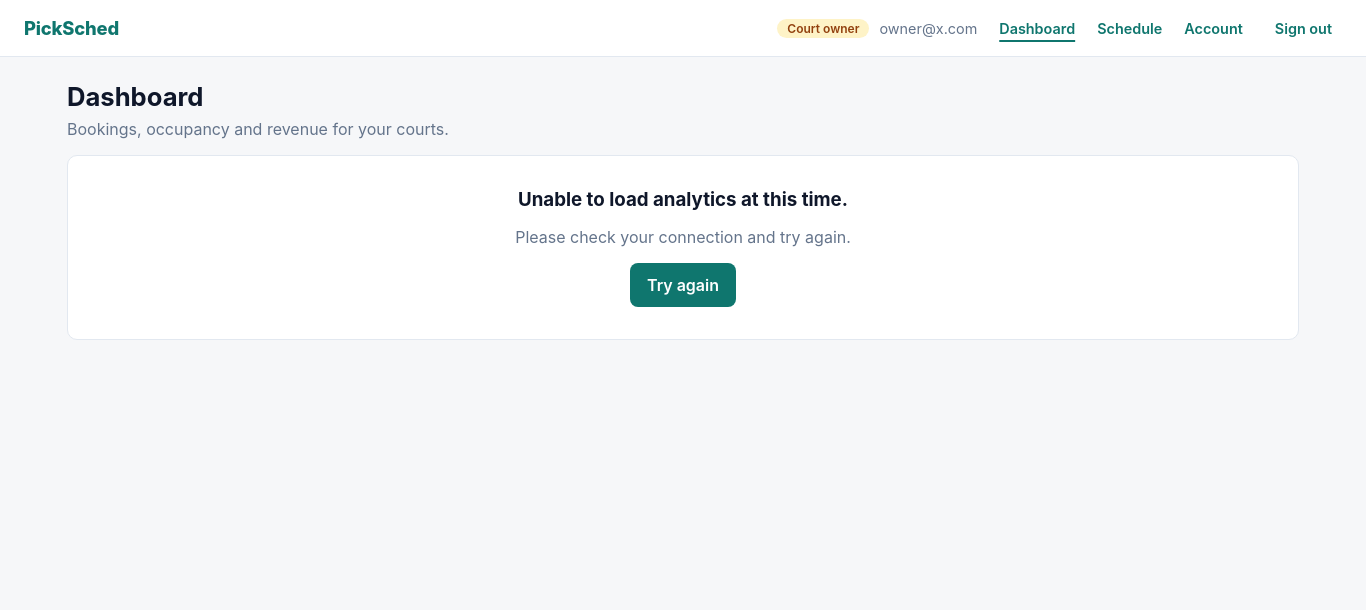
empty and error states › shows a friendly error and recovers on retry
Expected: the heading "Unable to load analytics at this time." is shown, left=518, top=188, right=848, bottom=211
Click the button "Try again": (683, 285) left=630, top=263, right=736, bottom=307
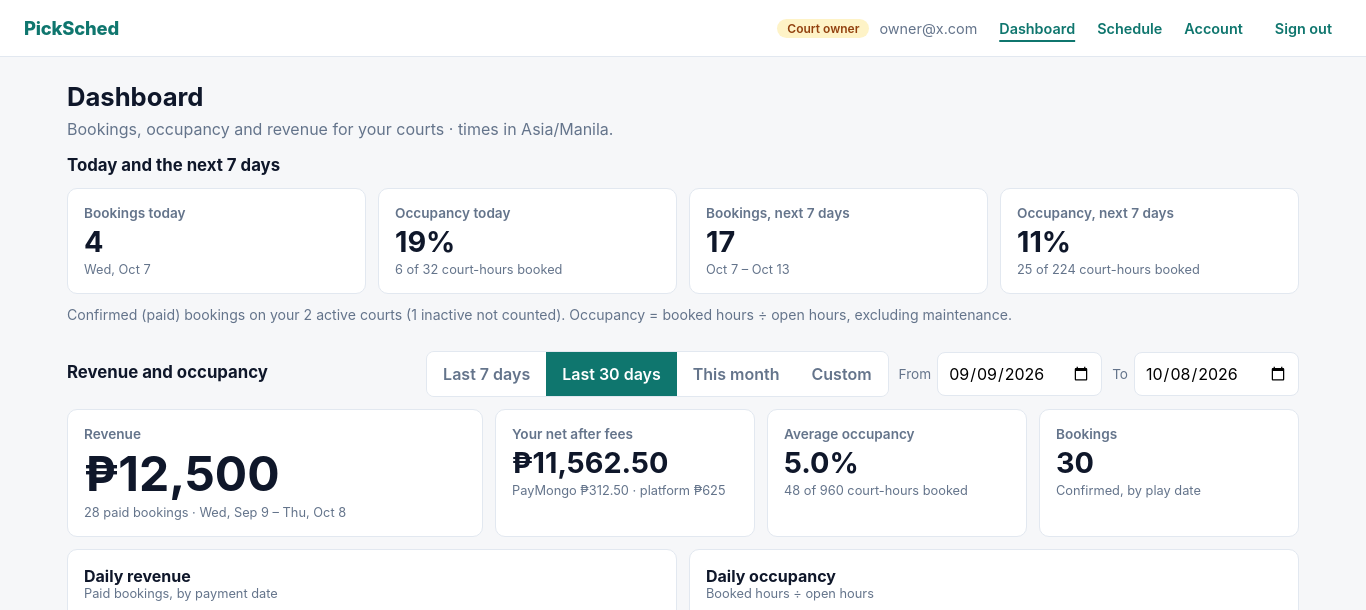
Now the text "Bookings today" is shown, box left=84, top=205, right=186, bottom=221
